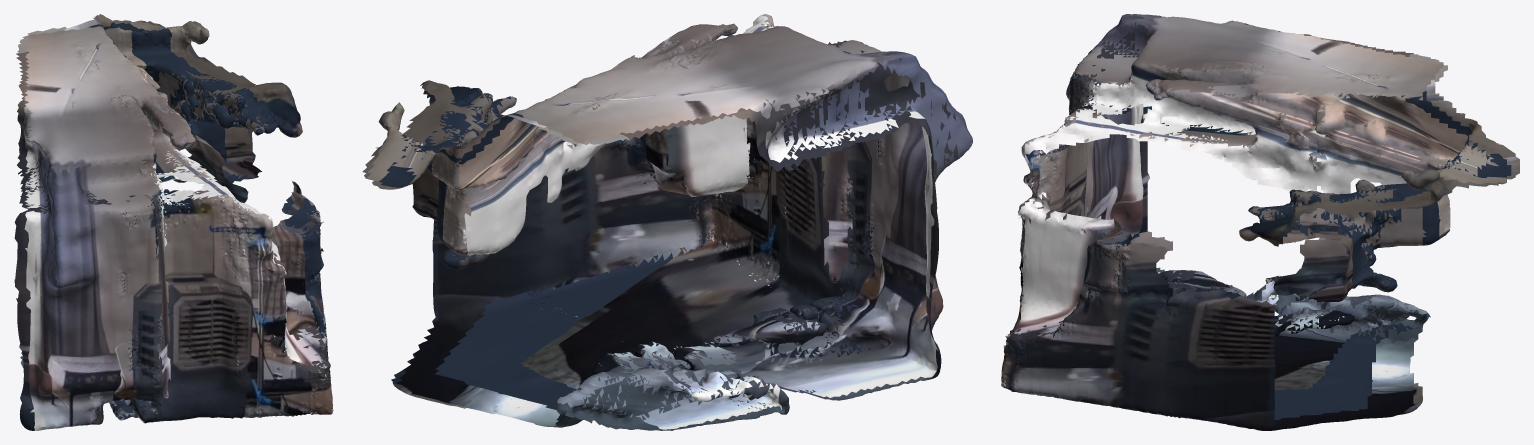
The model's file is small_scene_desk_window_photographic.glb.
The picture shows the model from 3 angles, left to right: view 1: azimuth 30°, elevation 25°; view 2: azimuth 150°, elevation 25°; view 3: azimuth 270°, elevation 25°; orthographic projection. The views are drawn at different scales.
Parts seen in each view (by area): view 1: geometry_0; view 2: geometry_0; view 3: geometry_0.
Part boxes in pixels (x1,y1,x2,y2): geometry_0: (14,14,333,430); geometry_0: (362,14,972,430); geometry_0: (1001,14,1519,430).
Size of the model in its own units: 0.7387 by 0.5344 by 0.8972.
1 material, 1 textured.
